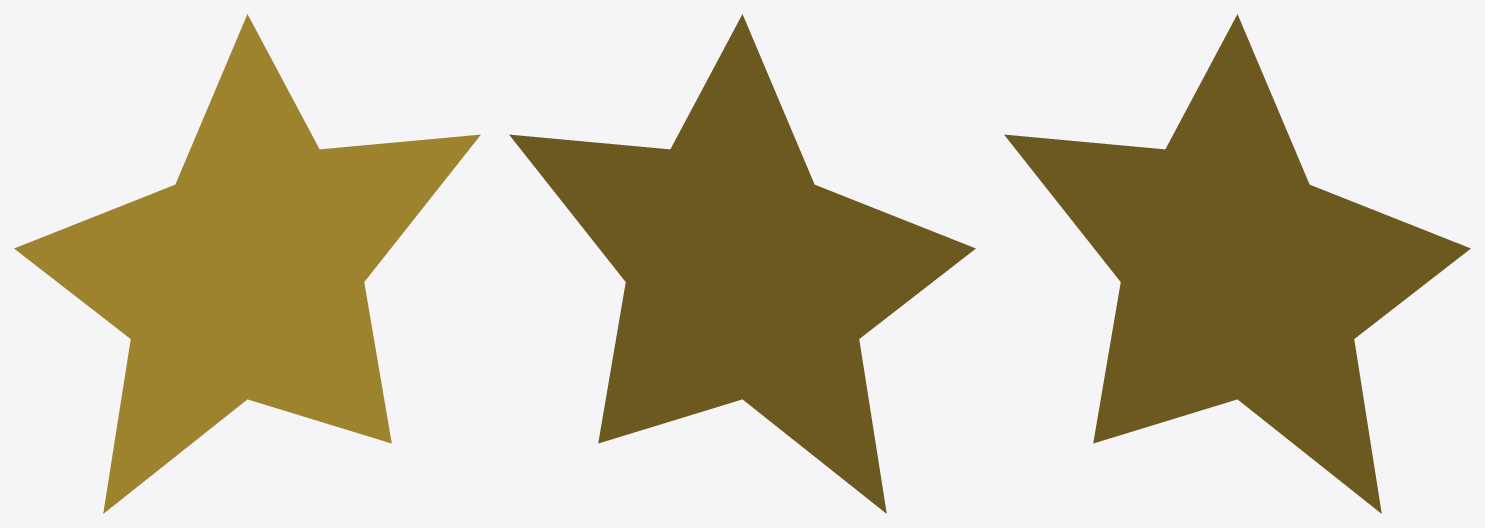
Rendered from deco_star5_lite.glb.
The picture shows the model from 3 angles, left to right: view 1: azimuth 30°, elevation 25°; view 2: azimuth 150°, elevation 25°; view 3: azimuth 330°, elevation 25°; orthographic projection.
Parts seen in each view (by area): view 1: star5; view 2: star5; view 3: star5.
Boxes of the visible parts, <box> form: star5: <box>14,14,480,513</box>; star5: <box>509,14,975,513</box>; star5: <box>1004,14,1470,513</box>.
Bounding box in the file's own units: 1.9 × 1.81 × 0.
